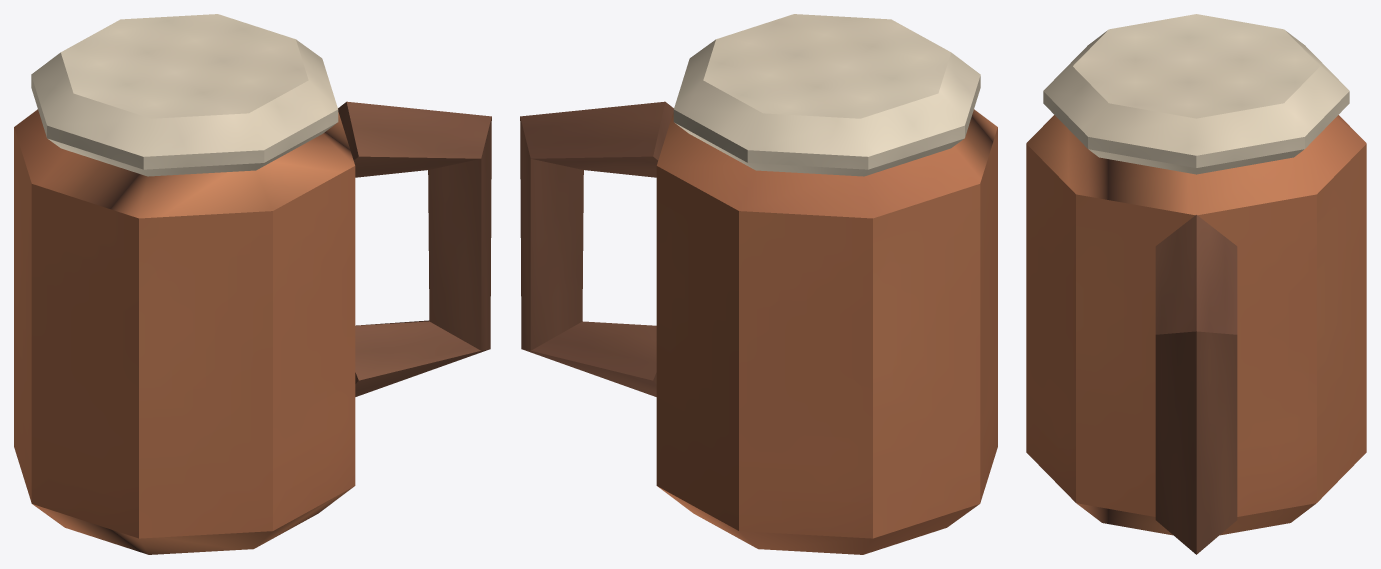
Rendered from mug.gltf.
3 renders of one model, left to right at view 1: azimuth 30°, elevation 25°; view 2: azimuth 150°, elevation 25°; view 3: azimuth 270°, elevation 25°, orthographic. The views are drawn at different scales.
Visible parts, largest first — view 1: mug_mesh; view 2: mug_mesh; view 3: mug_mesh.
Part boxes in pixels (left/top/right/bottom): mug_mesh: left=14, top=14, right=491, bottom=554; mug_mesh: left=520, top=14, right=997, bottom=554; mug_mesh: left=1026, top=14, right=1366, bottom=554.
Size of the model in its own units: 0.1504 by 0.135 by 0.1.
3 materials, 3 textured.
